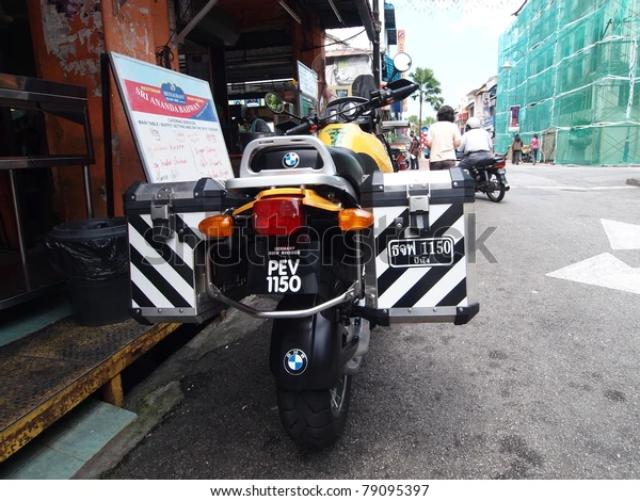License_Plate: (255, 255, 318, 296)
motorcycle: (123, 77, 481, 452)
